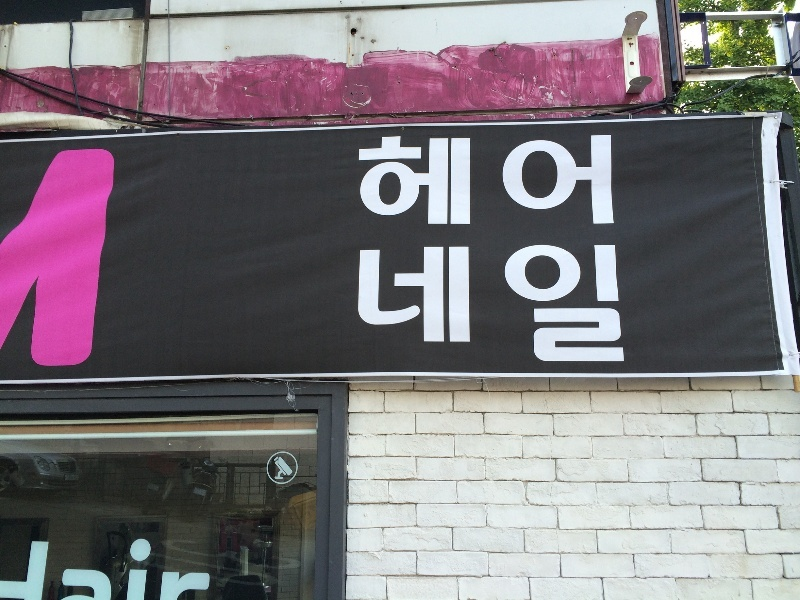text: (1, 147, 16, 373), (17, 147, 32, 373), (33, 147, 48, 373), (49, 147, 64, 373), (65, 147, 80, 373), (81, 147, 96, 373), (97, 147, 112, 373), (369, 242, 384, 370), (385, 242, 400, 370), (401, 242, 416, 370), (417, 242, 432, 370), (433, 242, 448, 370), (449, 242, 464, 370), (465, 242, 480, 370), (481, 242, 496, 370), (497, 242, 512, 370), (513, 242, 528, 370), (529, 242, 544, 370), (545, 242, 560, 370), (561, 242, 576, 370), (577, 242, 592, 370), (593, 242, 608, 370), (609, 242, 624, 370), (355, 242, 368, 370), (113, 147, 120, 373), (369, 132, 384, 230), (385, 132, 400, 230), (401, 132, 416, 230), (417, 132, 432, 230), (433, 132, 448, 230), (449, 132, 464, 230), (465, 132, 480, 230), (481, 132, 496, 230), (497, 132, 512, 230), (513, 132, 528, 230), (529, 132, 544, 230), (545, 132, 560, 230), (561, 132, 576, 230), (577, 132, 592, 230), (593, 132, 608, 230), (356, 132, 368, 230), (1, 537, 16, 599), (17, 537, 32, 599), (33, 537, 48, 599), (49, 537, 64, 599), (65, 537, 80, 599), (81, 537, 96, 599), (97, 537, 112, 599), (113, 537, 128, 599), (129, 537, 144, 599), (145, 537, 160, 599), (161, 537, 176, 599), (177, 537, 192, 599), (193, 537, 208, 599), (609, 132, 617, 230), (625, 242, 631, 370), (209, 537, 219, 599)
